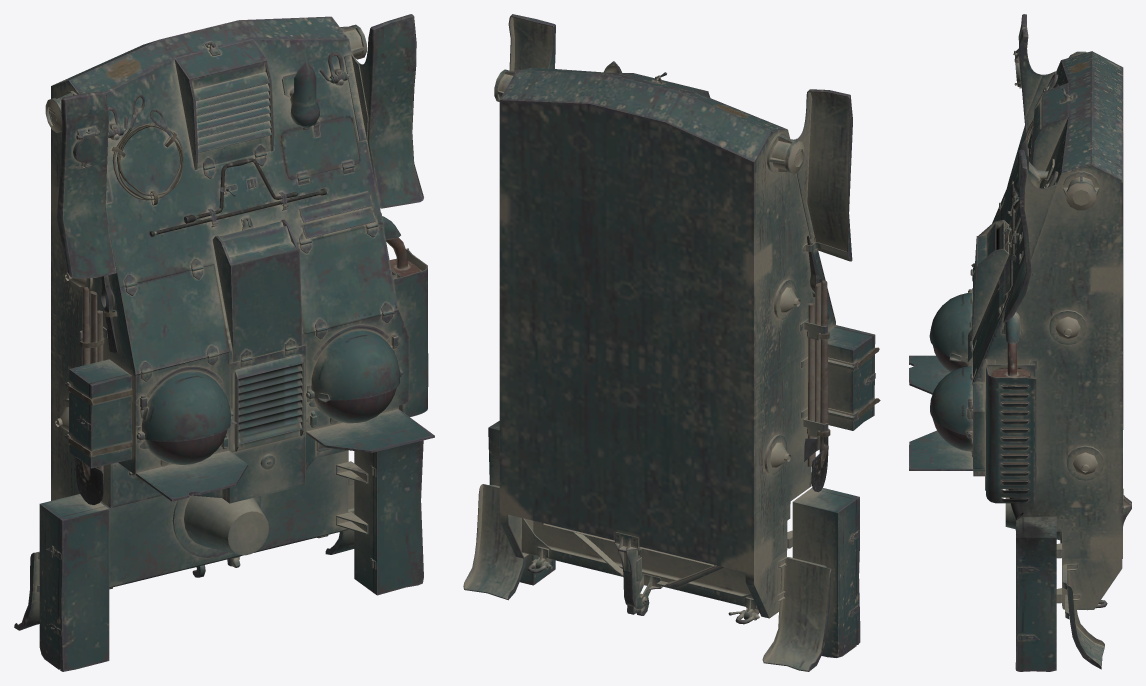
Rendered from Hull.glb.
3 renders of one model, left to right at view 1: azimuth 30°, elevation 25°; view 2: azimuth 150°, elevation 25°; view 3: azimuth 270°, elevation 25°, orthographic. The views are drawn at different scales.
Parts seen in each view (by area): view 1: set_0_group_0; view 2: set_0_group_0; view 3: set_0_group_0.
Part boxes in pixels (x1,y1,x2,y2): set_0_group_0: (14,14,434,671); set_0_group_0: (463,14,880,671); set_0_group_0: (909,14,1131,671).
Size of the model in its own units: 1.84 by 2.73 by 1.09.
Materials: 1 (1 with a texture image).
